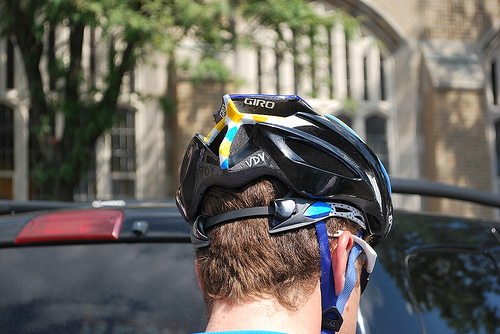helmet: (195, 94, 400, 233)
